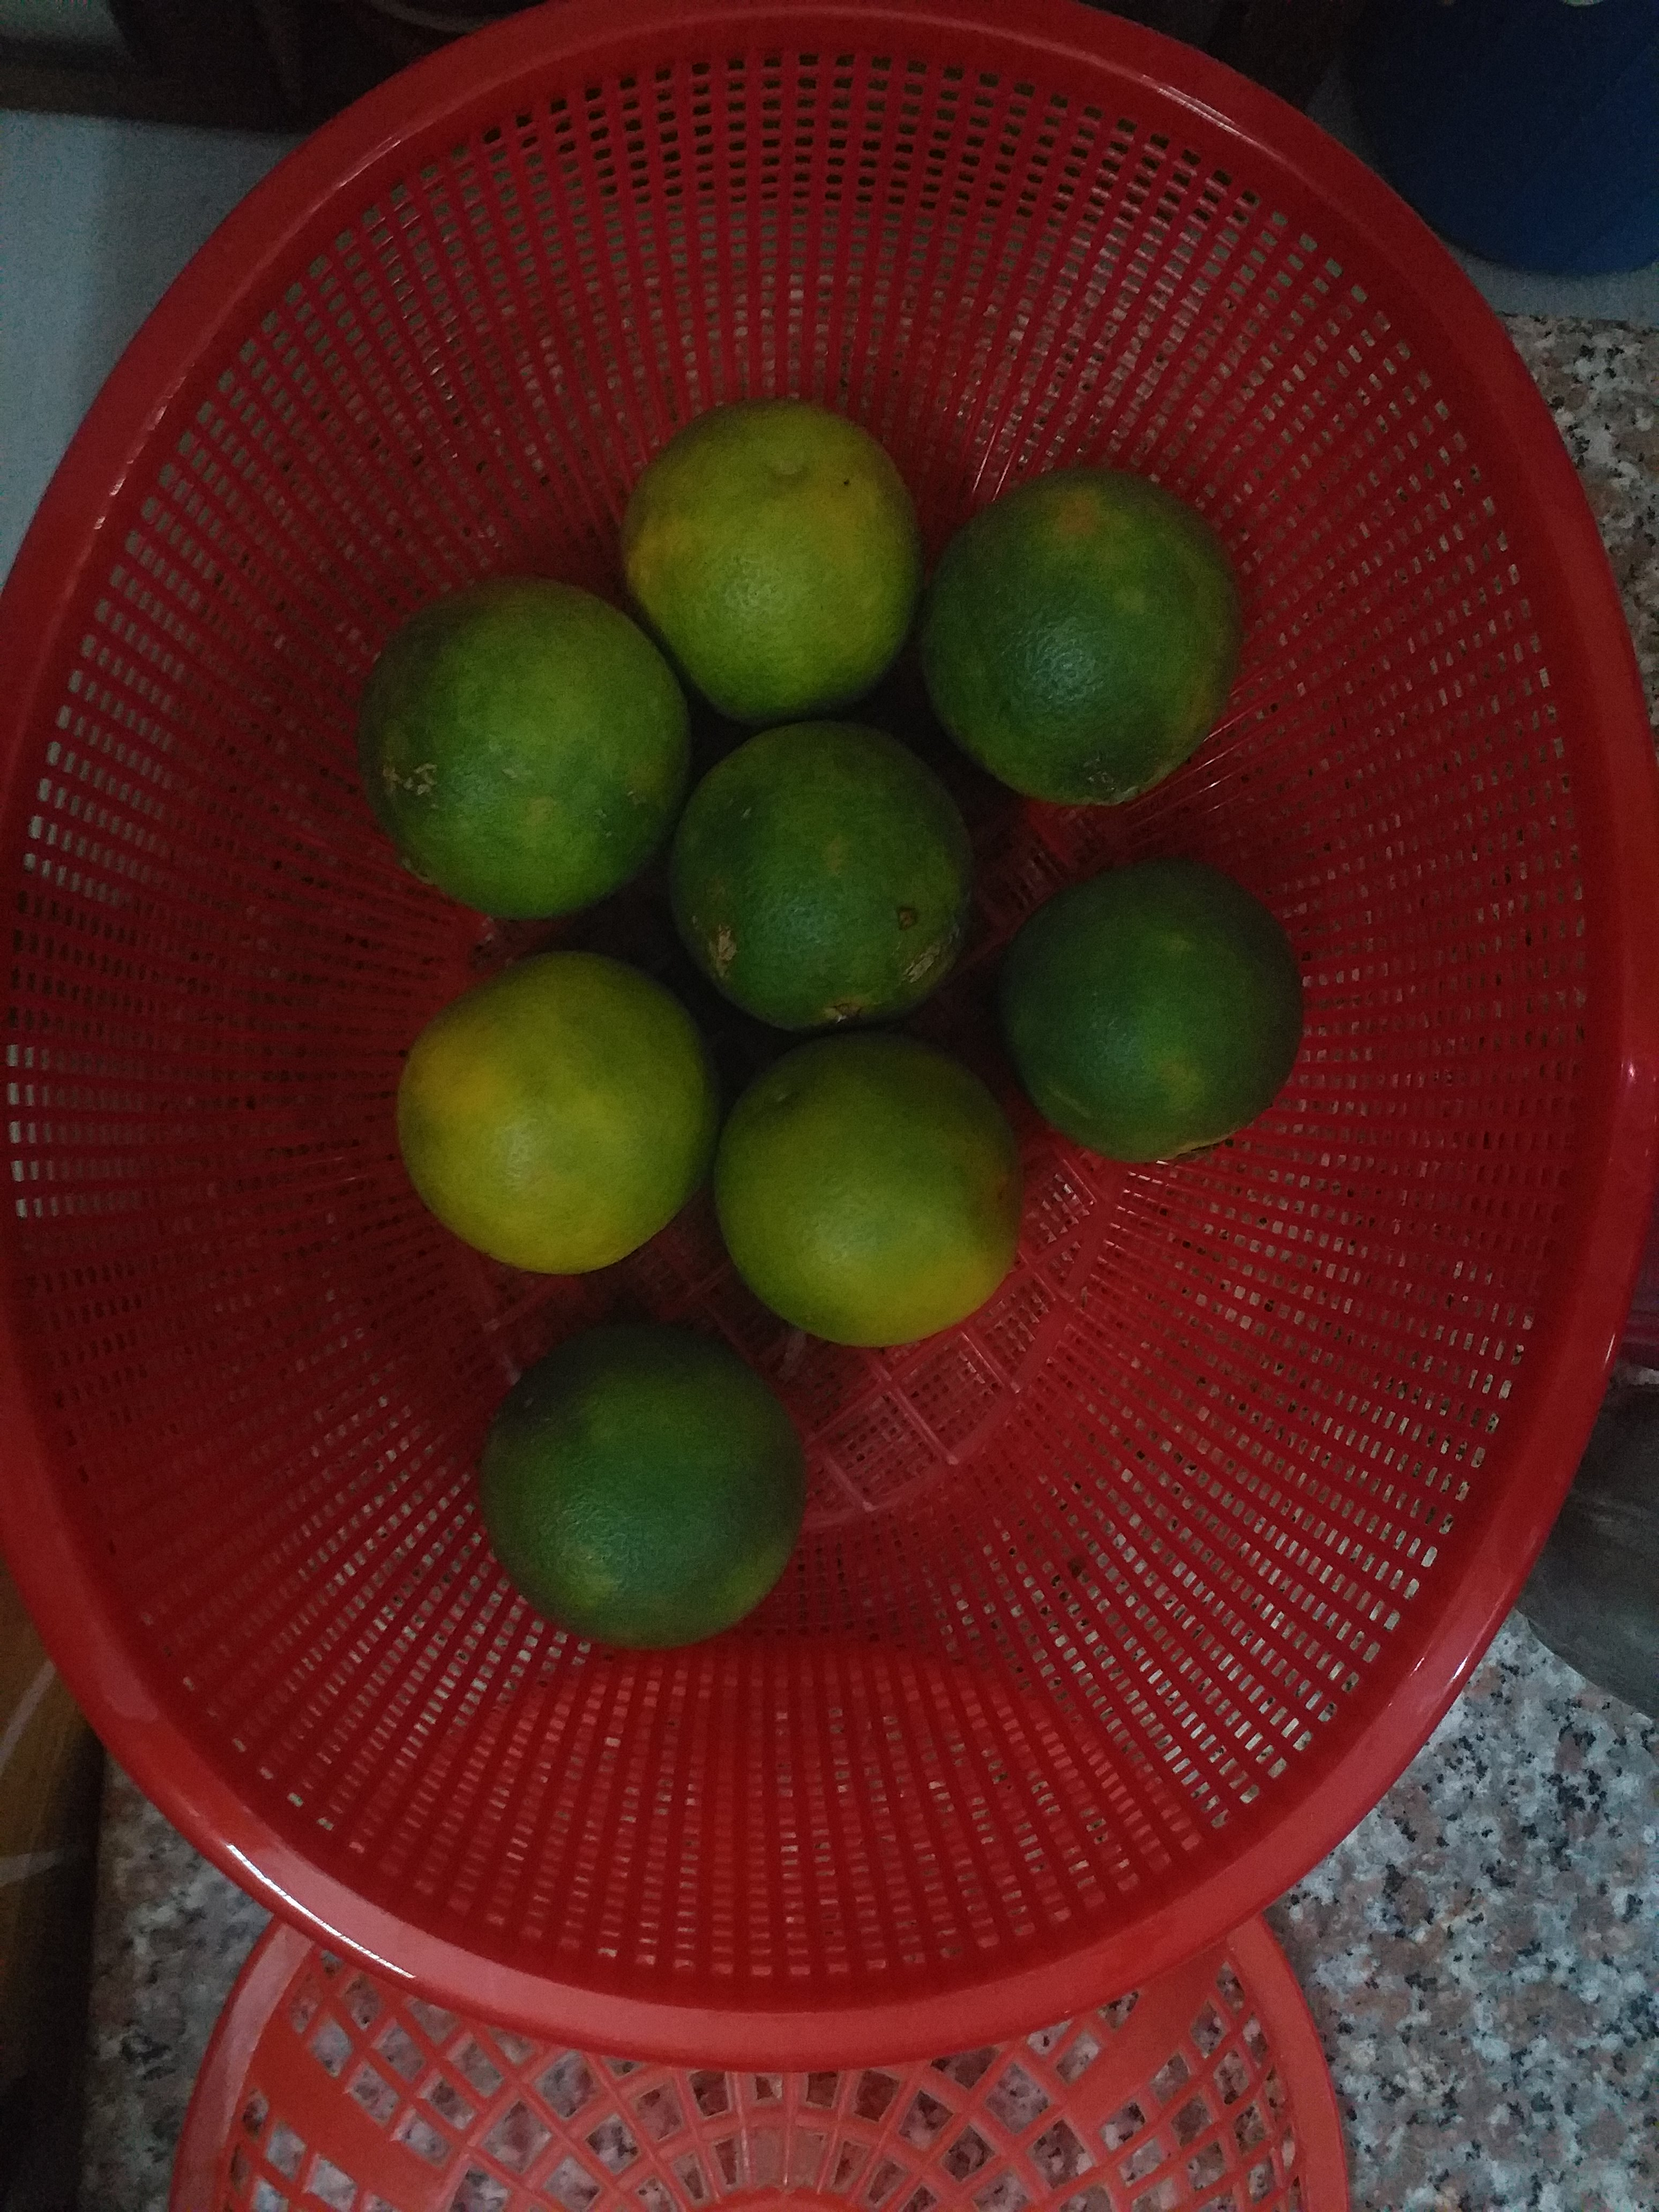food: (349, 380, 1317, 1662)
